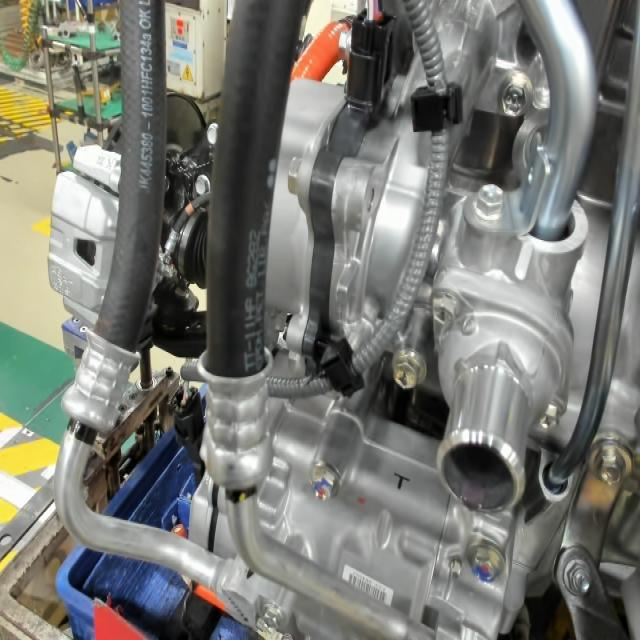Compressor-T: (387, 467, 414, 496)
